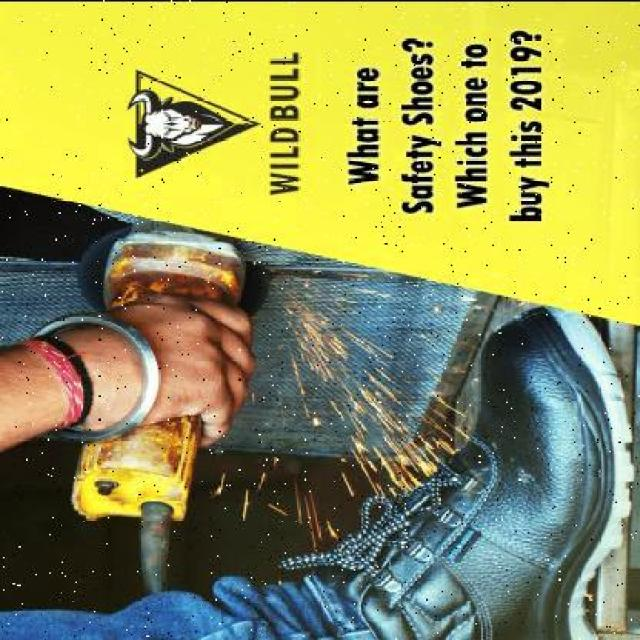shoes: (337, 303, 629, 640)
